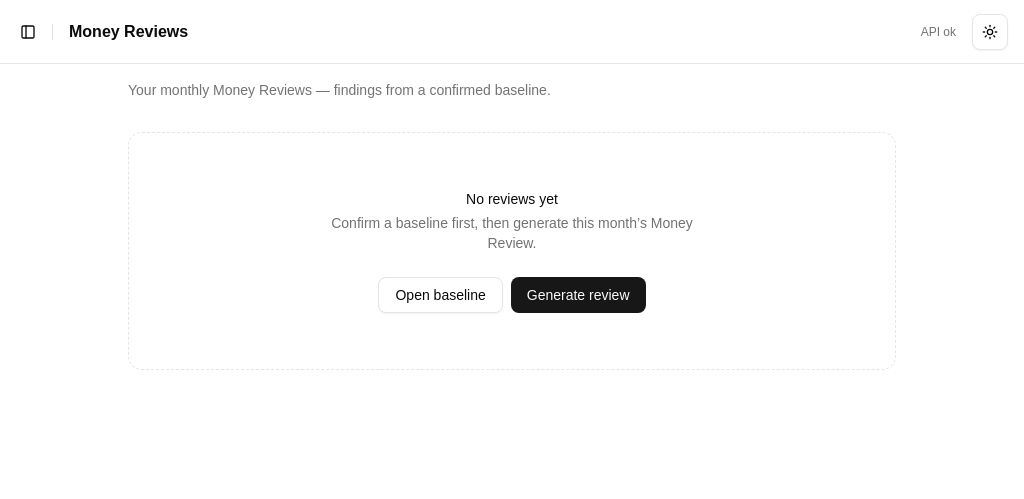
Test case: Money Reviews › shows empty history and generates a review
The image size is (1024, 499).
Expected: the heading "Money Reviews" is shown, 69,20 -> 188,44
Expected: the text "No reviews yet" is shown, 466,191 -> 558,207
Click the button "Generate review" at (578, 295), box 511,277 -> 646,313
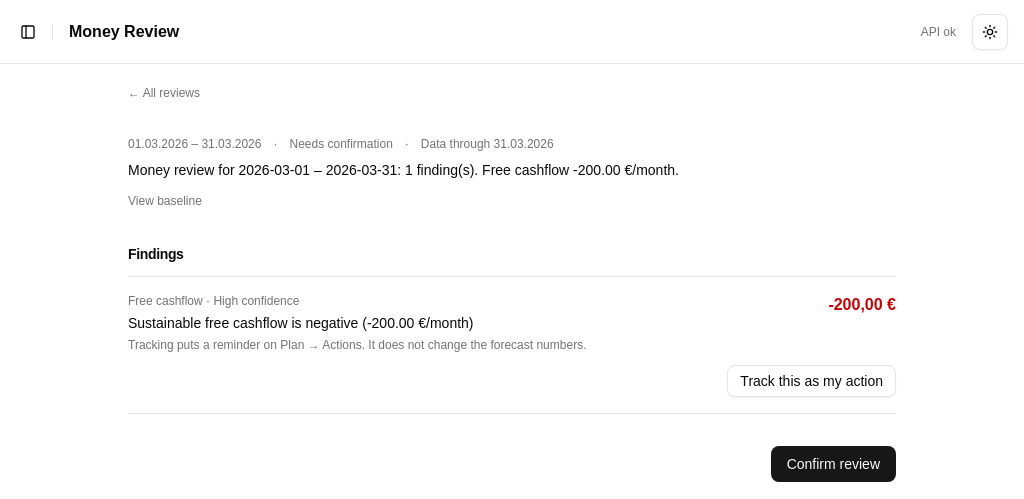
Expected: the text "Sustainable free cashflow is negative (-200.00 €/month)" is shown, 128,315 -> 474,331
